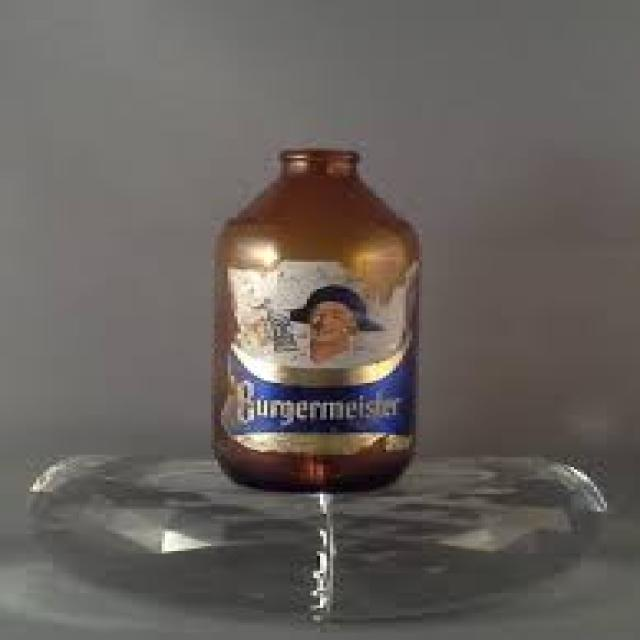glass: (20, 450, 604, 613), (215, 146, 423, 487)
